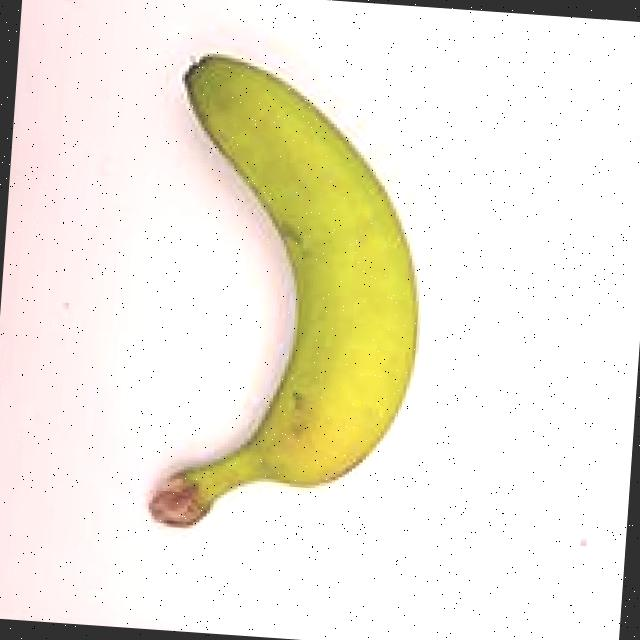Unripe: (90, 24, 490, 579)
